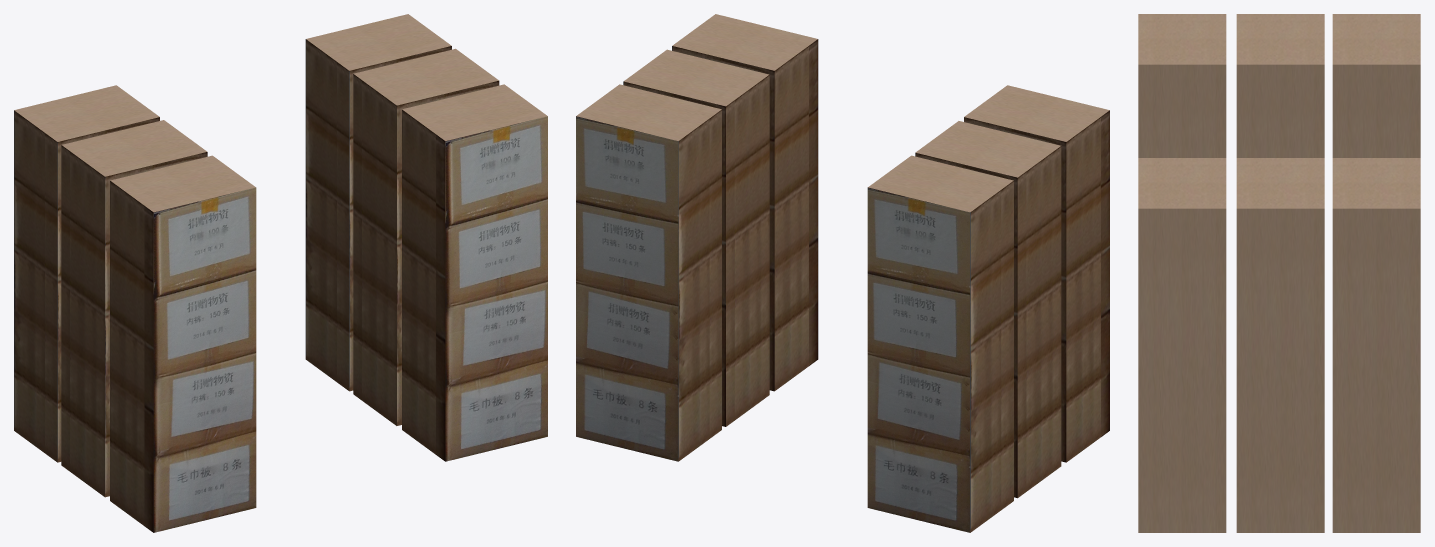
File: neiku.FBX
3 renders of one model, left to right at view 1: azimuth 30°, elevation 25°; view 2: azimuth 150°, elevation 25°; view 3: azimuth 270°, elevation 25°, orthographic.
Parts seen in each view (by area): view 1: Box3838; view 2: Box3838; view 3: Box3838.
Boxes of the visible parts, x1,y1,x2,y2 form: Box3838: (14, 14, 547, 532); Box3838: (576, 14, 1109, 532); Box3838: (1138, 14, 1420, 532).
Bounding box in the file's own units: 1.51 × 0.926 × 1.17.
